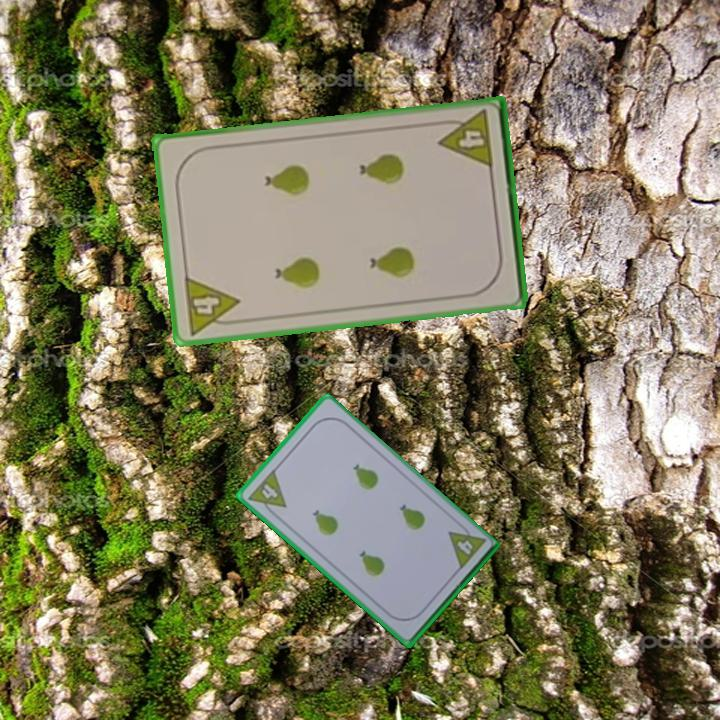4p: (180, 273, 244, 338), (434, 107, 496, 172), (244, 466, 289, 521), (445, 519, 488, 573)
